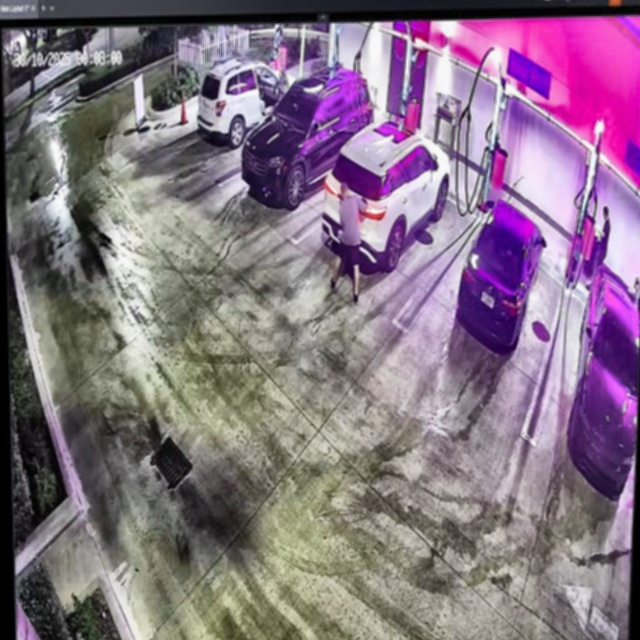Car: (240, 64, 374, 209), (325, 121, 452, 269), (458, 194, 547, 350), (196, 59, 295, 143)
